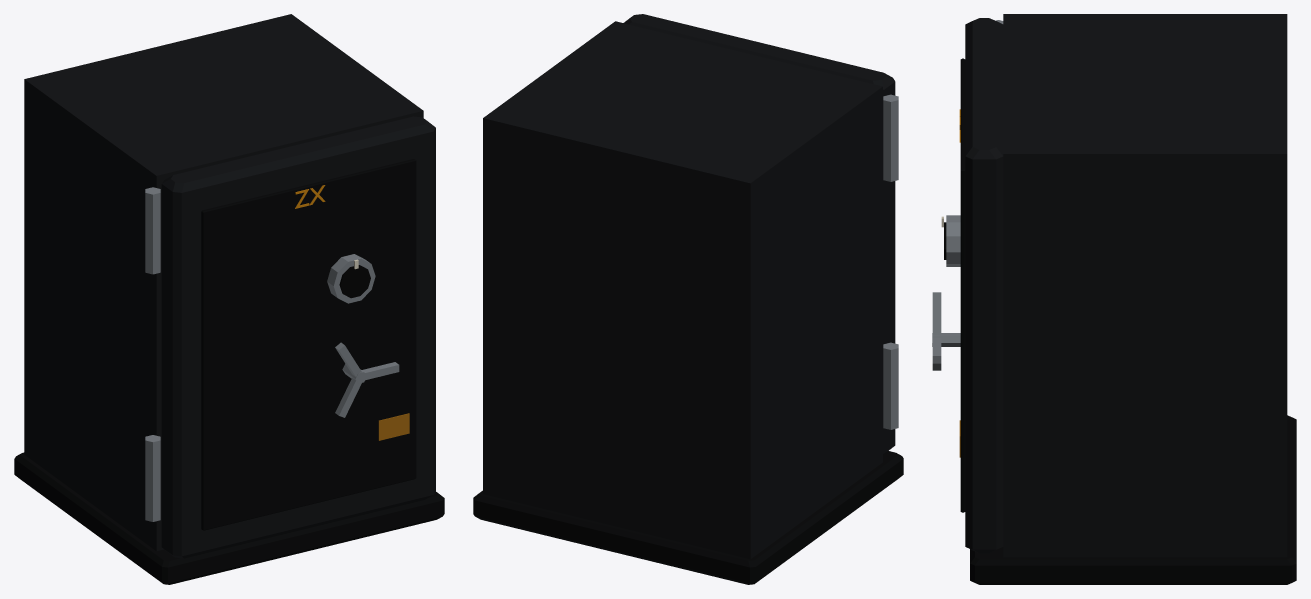
The model's file is SM_Int_Safe_Steel.glb.
The picture shows the model from 3 angles, left to right: view 1: azimuth 30°, elevation 25°; view 2: azimuth 150°, elevation 25°; view 3: azimuth 270°, elevation 25°; orthographic projection. The views are drawn at different scales.
Parts seen in each view (by area): view 1: SM_Int_Safe_Steel_Door, SM_Int_Safe_Steel; view 2: SM_Int_Safe_Steel, SM_Int_Safe_Steel_Door; view 3: SM_Int_Safe_Steel, SM_Int_Safe_Steel_Door.
Boxes of the visible parts, <box> form: SM_Int_Safe_Steel_Door: <box>145,116,435,558</box>; SM_Int_Safe_Steel: <box>14,14,444,584</box>; SM_Int_Safe_Steel: <box>473,21,903,584</box>; SM_Int_Safe_Steel_Door: <box>623,14,898,454</box>; SM_Int_Safe_Steel: <box>970,14,1296,584</box>; SM_Int_Safe_Steel_Door: <box>932,18,1003,553</box>.
Bounding box in the file's own units: 0.755 × 1 × 0.77.
1 material, 1 textured.
